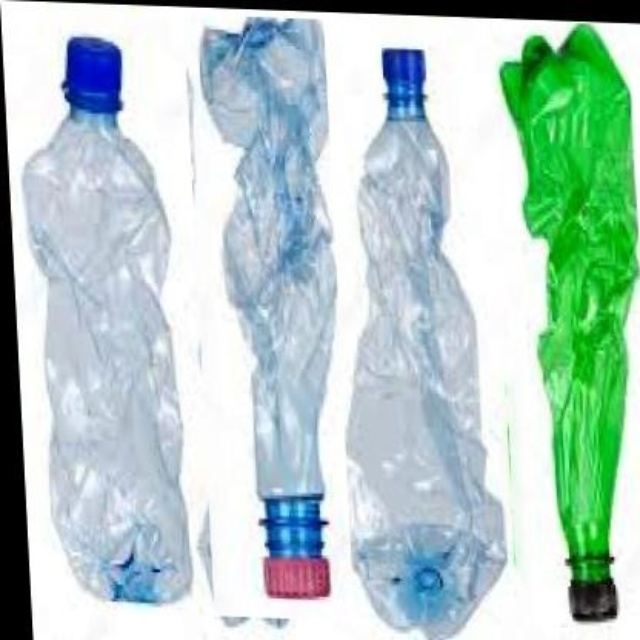trash: (23, 37, 189, 602), (348, 49, 505, 635), (500, 26, 637, 618), (202, 18, 335, 597)
